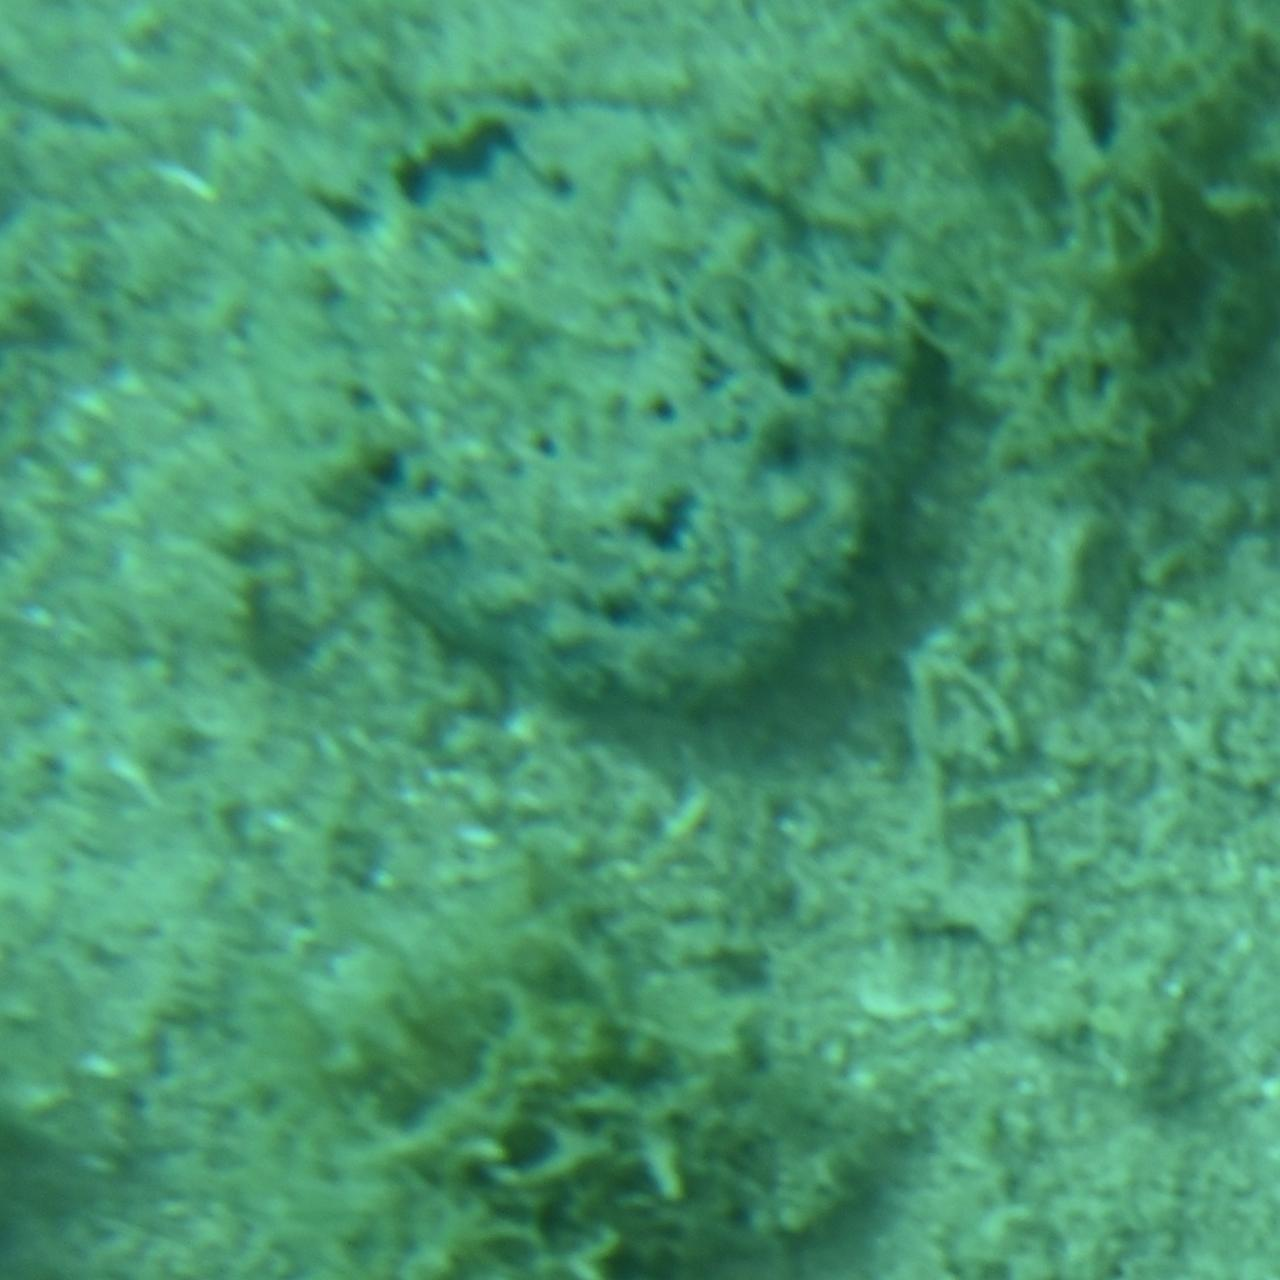Keratosa -cfr Sarcotragus-: (314, 107, 966, 709)
